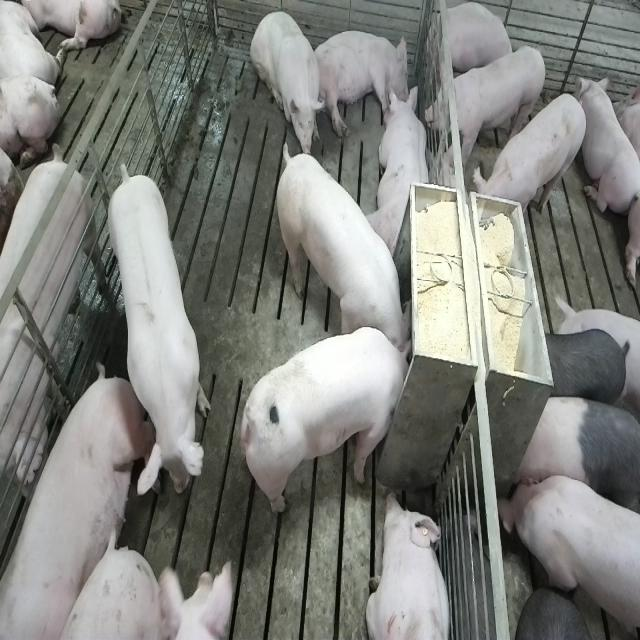Feeding: (246, 326, 420, 518), (274, 138, 410, 358)
Lateral_lying: (0, 363, 144, 640), (311, 30, 410, 139)
Sitting: (250, 7, 324, 156)
Standing: (0, 137, 103, 500), (106, 156, 210, 500), (498, 469, 638, 640), (512, 393, 638, 522), (474, 92, 588, 234), (423, 43, 548, 163), (532, 325, 629, 417), (517, 588, 608, 640)
Sternal_lying: (364, 490, 453, 640), (369, 85, 433, 261), (579, 72, 638, 222), (433, 3, 514, 84)
